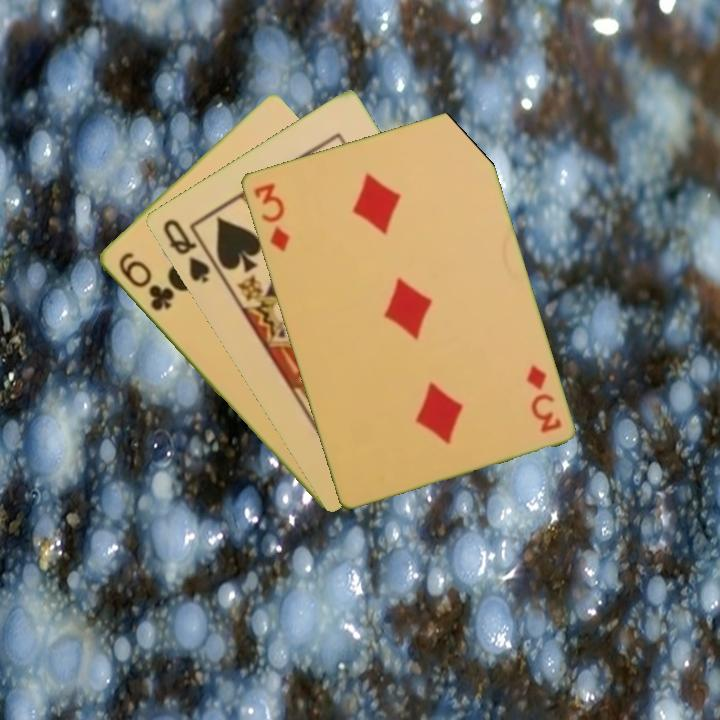3d: (250, 179, 292, 255), (522, 360, 564, 436)
6c: (114, 248, 177, 314)
Qs: (159, 215, 212, 286)
